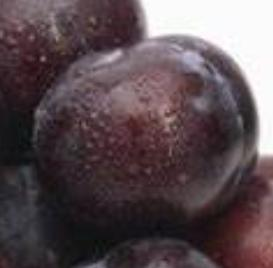plum_B: (30, 38, 247, 239)
